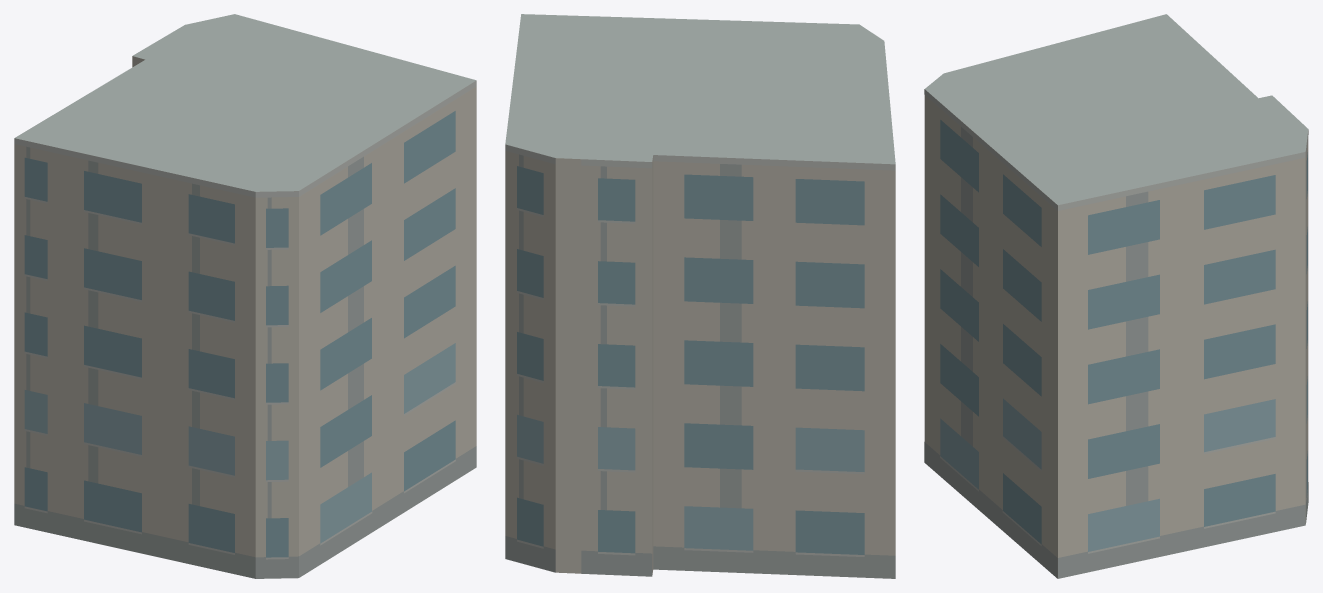
File: survey-upis-32801169.glb
The picture shows the model from 3 angles, left to right: view 1: azimuth 30°, elevation 25°; view 2: azimuth 150°, elevation 25°; view 3: azimuth 270°, elevation 25°; orthographic projection. The views are drawn at different scales.
Parts seen in each view (by area): view 1: survey-upis-32801169.tmp; view 2: survey-upis-32801169.tmp; view 3: survey-upis-32801169.tmp.
Part boxes in pixels (x1,y1,x2,y2): survey-upis-32801169.tmp: (14, 14, 476, 578); survey-upis-32801169.tmp: (505, 14, 895, 578); survey-upis-32801169.tmp: (924, 14, 1308, 578).
Bounding box in the file's own units: 17.54 × 15.97 × 14.88.
